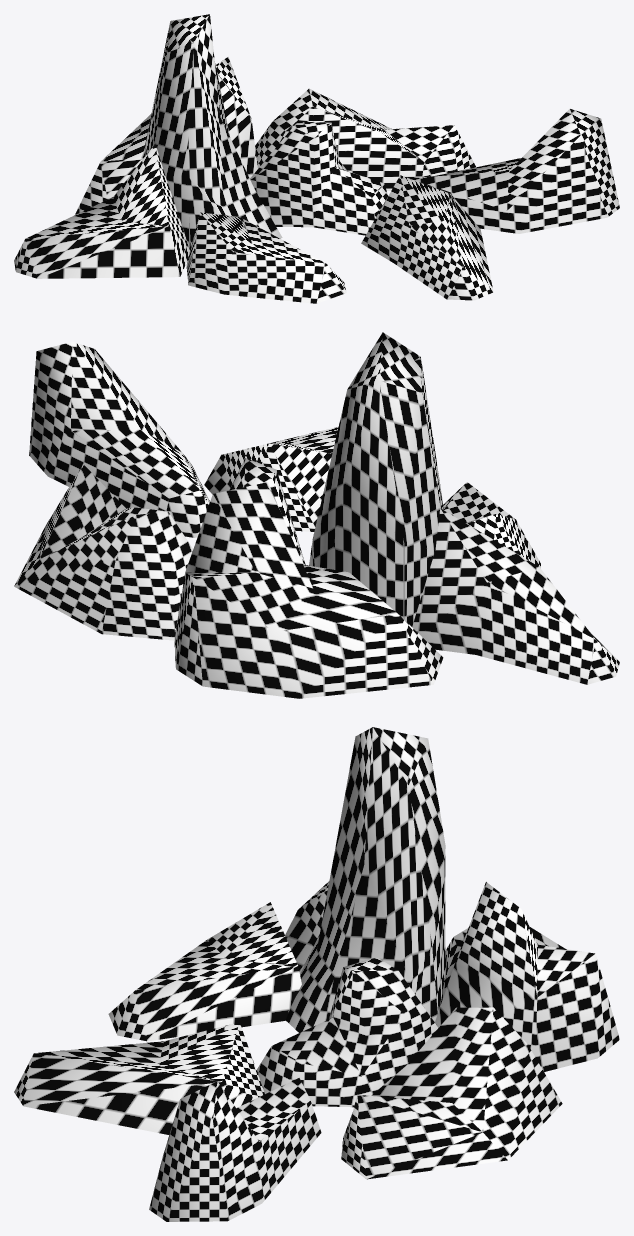
The model's file is nast21.dae.
3 views of the same model, one above another, from view 1: azimuth 30°, elevation 25°; view 2: azimuth 150°, elevation 25°; view 3: azimuth 270°, elevation 25° (orthographic). The views are drawn at different scales.
Parts seen in each view (by area): view 1: stones01; view 2: stones01; view 3: stones01.
Boxes of the visible parts, x1=… form: stones01: x1=14, y1=14, x2=619, y2=303; stones01: x1=14, y1=332, x2=619, y2=698; stones01: x1=14, y1=727, x2=619, y2=1221.
Bounding box in the file's own units: 4.64 × 3.59 × 1.86.
1 material, 1 textured.
